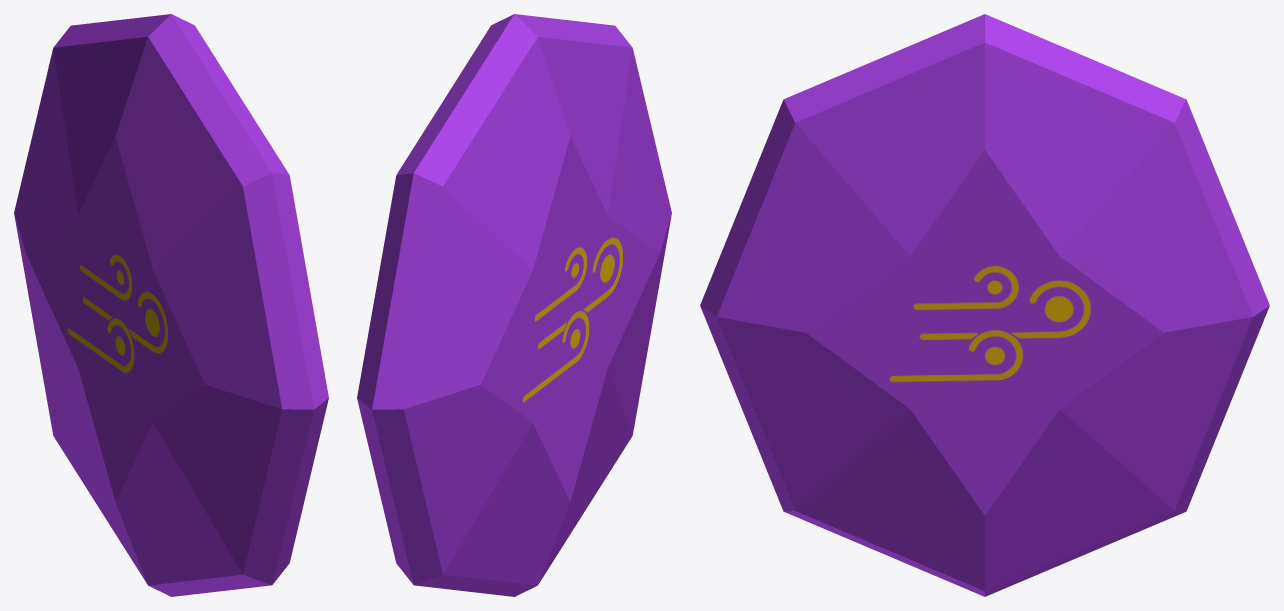
The model's file is gem textured.fbx.
3 views of the same model, side by side, from view 1: azimuth 30°, elevation 25°; view 2: azimuth 150°, elevation 25°; view 3: azimuth 270°, elevation 25° (orthographic).
Visible parts, largest first — view 1: Torus.003; view 2: Torus.003; view 3: Torus.003.
Part boxes in pixels (x1=…): Torus.003: x1=14, y1=14, x2=328, y2=596; Torus.003: x1=357, y1=14, x2=671, y2=596; Torus.003: x1=700, y1=14, x2=1269, y2=596.
Bounding box in the file's own units: 48.86 × 243 × 215.
